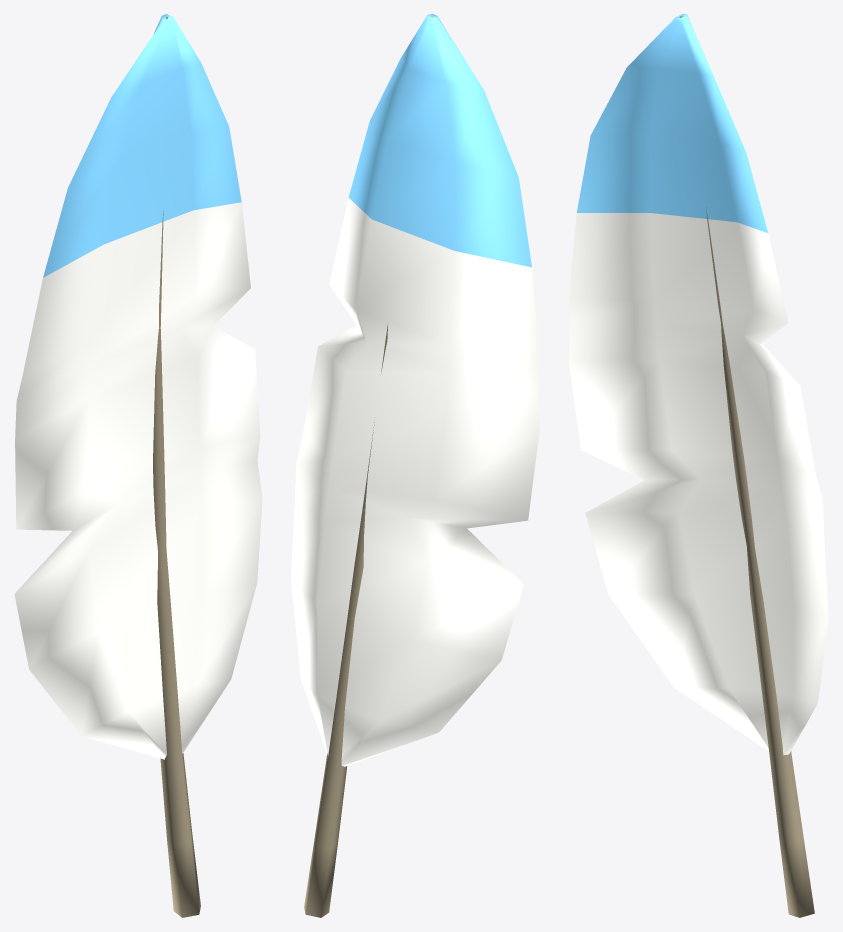
File: record-feather.glb
3 views of the same model, side by side, from view 1: azimuth 30°, elevation 25°; view 2: azimuth 150°, elevation 25°; view 3: azimuth 330°, elevation 25° (orthographic). The views are drawn at different scales.
Visible parts, largest first — view 1: record-feather; view 2: record-feather; view 3: record-feather.
Boxes of the visible parts, box(x1,y1,x2,y2) form: record-feather: box(14, 14, 262, 917); record-feather: box(291, 14, 539, 917); record-feather: box(568, 14, 828, 917).
Size of the model in its own units: 0.9035 by 3.21 by 0.3861.
